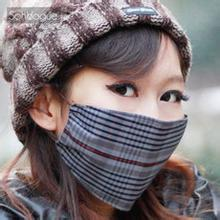face_mask: (64, 32, 188, 188)
